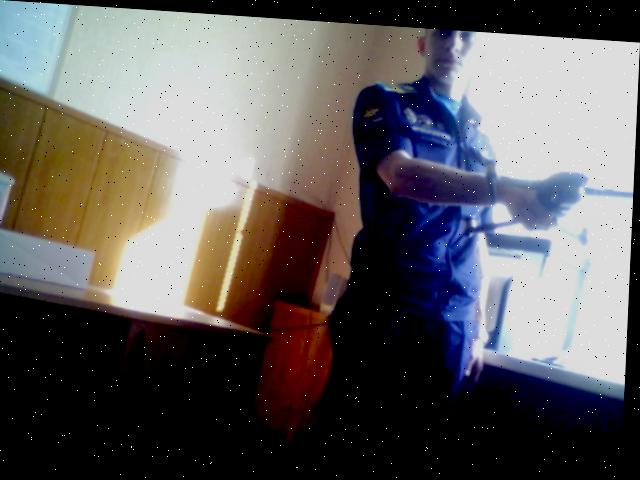drone: (447, 114, 637, 260)
